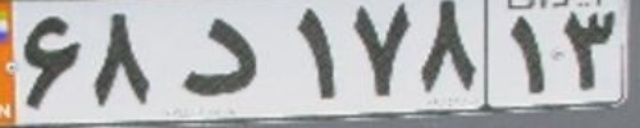1: (294, 8, 337, 98), (508, 14, 545, 92)
3: (562, 9, 613, 89)
6: (18, 14, 79, 110)
7: (348, 1, 410, 98)
8: (88, 13, 152, 104), (423, 0, 475, 91)
dal: (183, 17, 257, 97)
